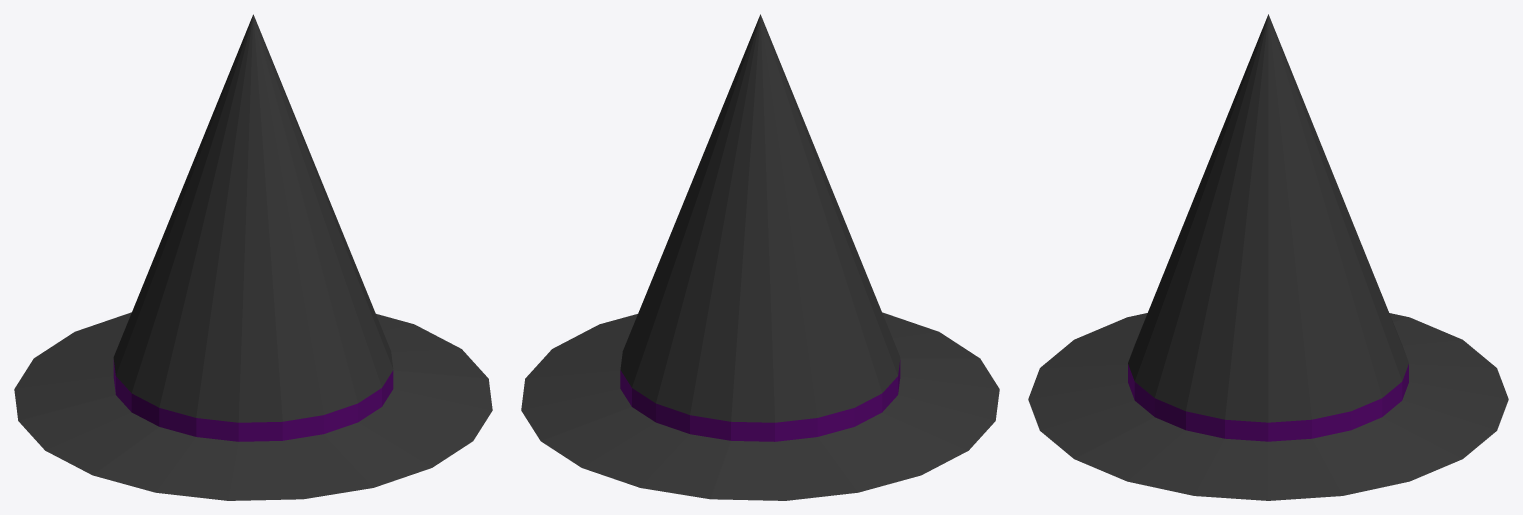
The model's file is WitchHat.fbx.
The picture shows the model from 3 angles, left to right: view 1: azimuth 30°, elevation 25°; view 2: azimuth 150°, elevation 25°; view 3: azimuth 270°, elevation 25°; orthographic projection.
Visible parts, largest first — view 1: pCone1; view 2: pCone1; view 3: pCone1.
Part boxes in pixels (box(x1,y1,x2,y2)): pCone1: box(14, 14, 492, 500); pCone1: box(521, 14, 999, 500); pCone1: box(1028, 14, 1508, 500).
Size of the model in its own units: 6.71 by 5.94 by 6.71.
